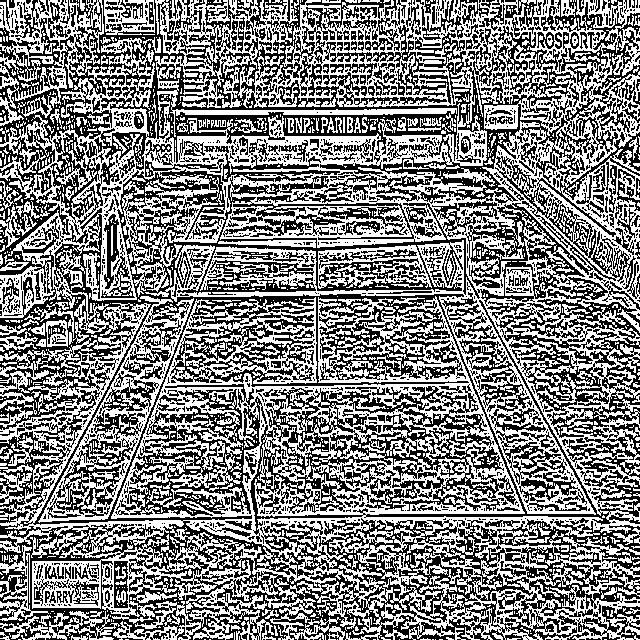left side: (36, 205, 231, 522), (399, 204, 597, 514)
player: (233, 368, 267, 546), (217, 150, 234, 219)
